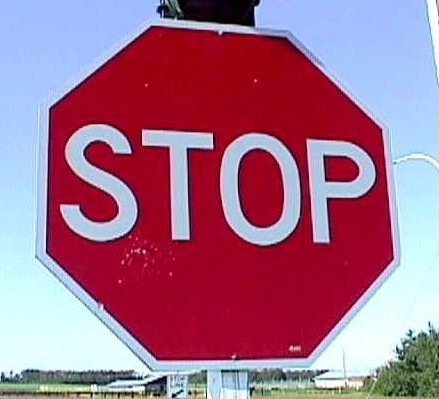sign_stop: (34, 17, 402, 373)
